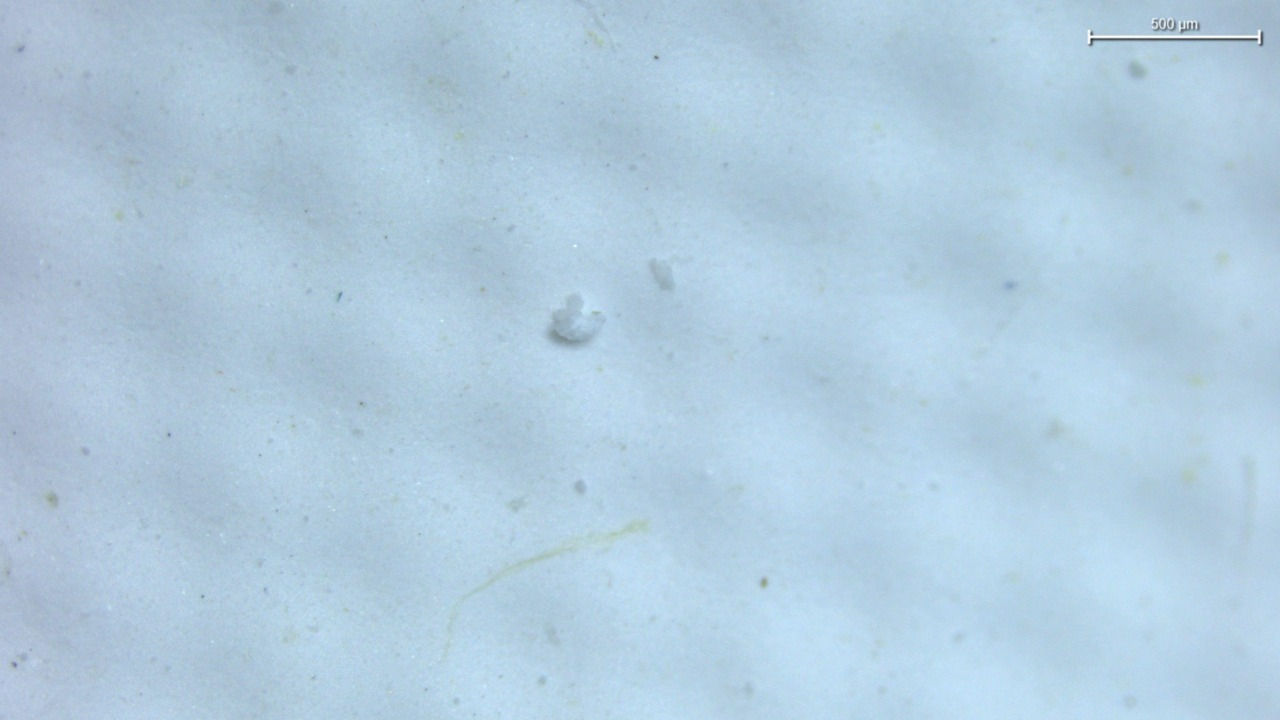microplastic_fragment: (550, 292, 605, 342)
